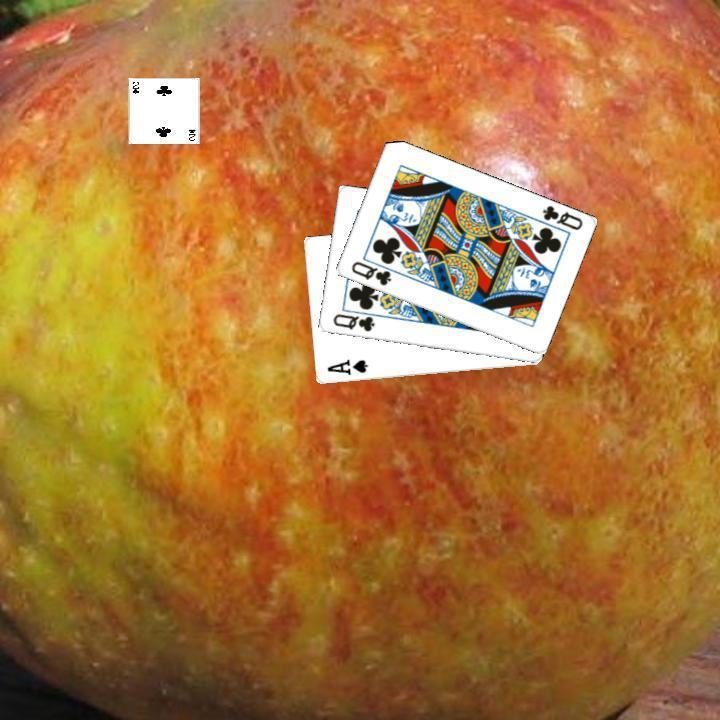A: (322, 355, 369, 378)
Q: (346, 257, 393, 288), (538, 201, 584, 232), (328, 310, 376, 334)
